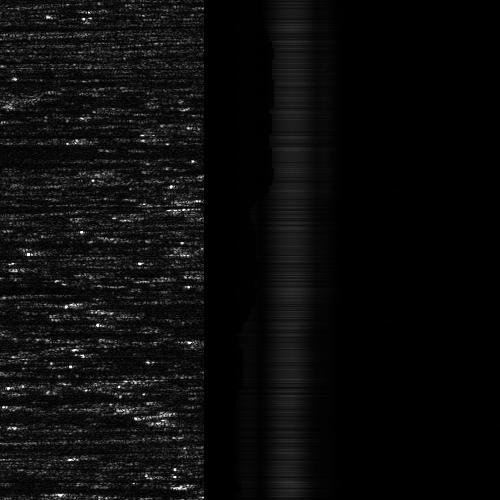shadow: (0, 196, 79, 217), (0, 126, 86, 137)
